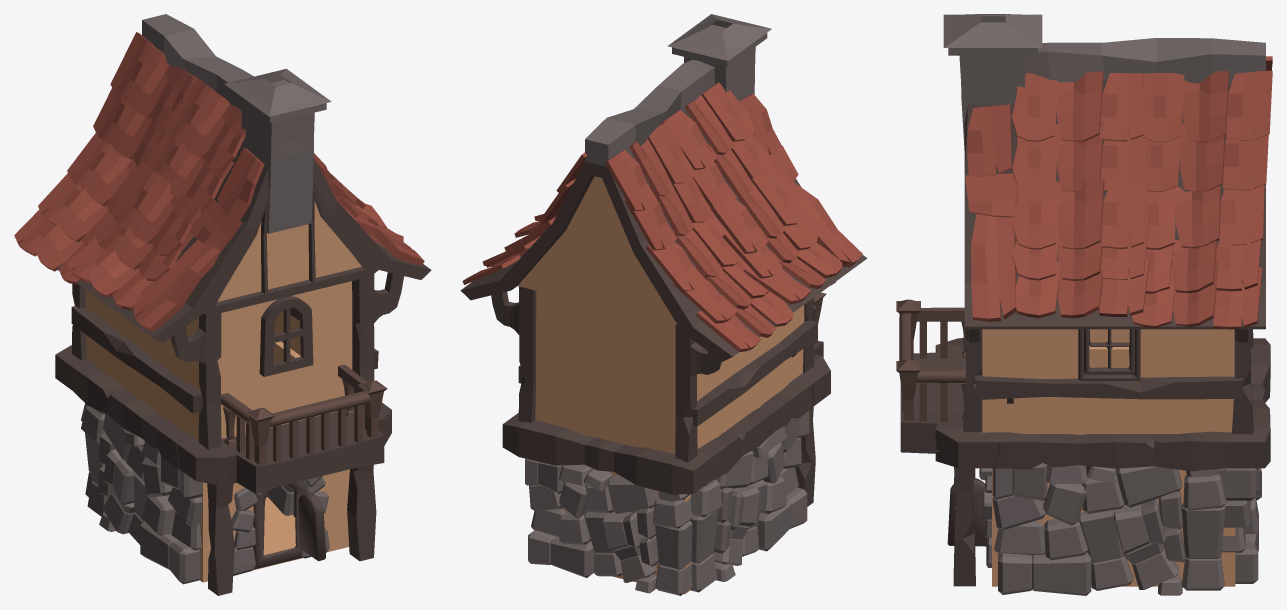
File: maison-petite-2.glb
The picture shows the model from 3 angles, left to right: view 1: azimuth 30°, elevation 25°; view 2: azimuth 150°, elevation 25°; view 3: azimuth 270°, elevation 25°; orthographic projection. The views are drawn at different scales.
Parts seen in each view (by area): view 1: Side Rocks.001, Wood Frame.001; view 2: Side Rocks.001, Wood Frame.001; view 3: Side Rocks.001, Wood Frame.001.
Boxes of the visible parts, x1,y1,x2,y2 form: Side Rocks.001: (14, 14, 424, 584); Wood Frame.001: (55, 145, 431, 595); Side Rocks.001: (462, 14, 862, 595); Wood Frame.001: (460, 110, 867, 506); Side Rocks.001: (943, 14, 1272, 595); Wood Frame.001: (896, 80, 1270, 586).
Bounding box in the file's own units: 39.44 × 62.66 × 40.37.
2 materials, 2 textured.
